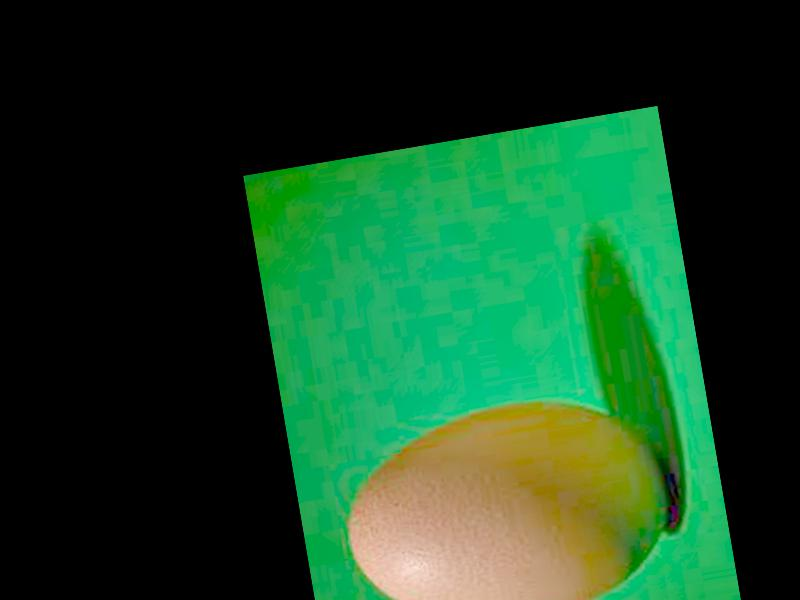Eggs: (333, 381, 684, 600)
